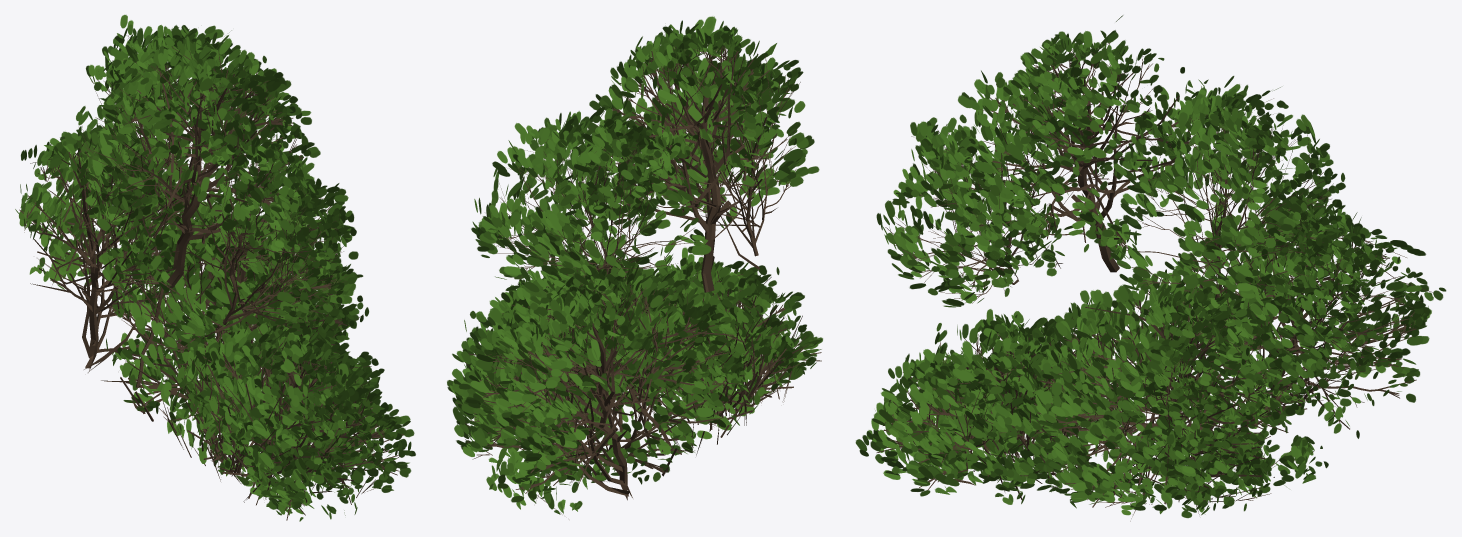
The picture shows the model from 3 angles, left to right: view 1: azimuth 30°, elevation 25°; view 2: azimuth 150°, elevation 25°; view 3: azimuth 270°, elevation 25°; orthographic projection.
Visible parts, largest first — view 1: oak 01.001_trunk_Mat.001_0.374; view 2: oak 01.001_trunk_Mat.001_0.374; view 3: oak 01.001_trunk_Mat.001_0.374.
Boxes of the visible parts, x1,y1,x2,y2 form: oak 01.001_trunk_Mat.001_0.374: [15, 14, 415, 521]; oak 01.001_trunk_Mat.001_0.374: [447, 16, 822, 514]; oak 01.001_trunk_Mat.001_0.374: [855, 15, 1446, 521].
Bounding box in the file's own units: 2.16 × 3.79 × 4.68.
Materials: 2 (1 with a texture image).
